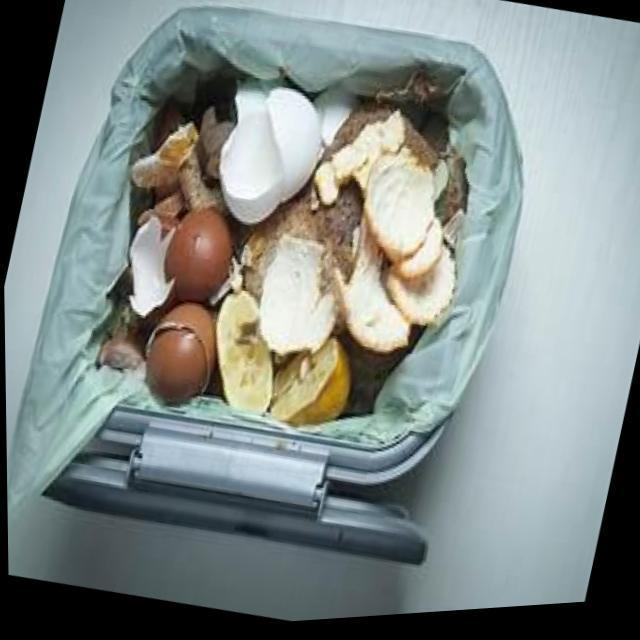Garbage: (92, 67, 482, 434)
